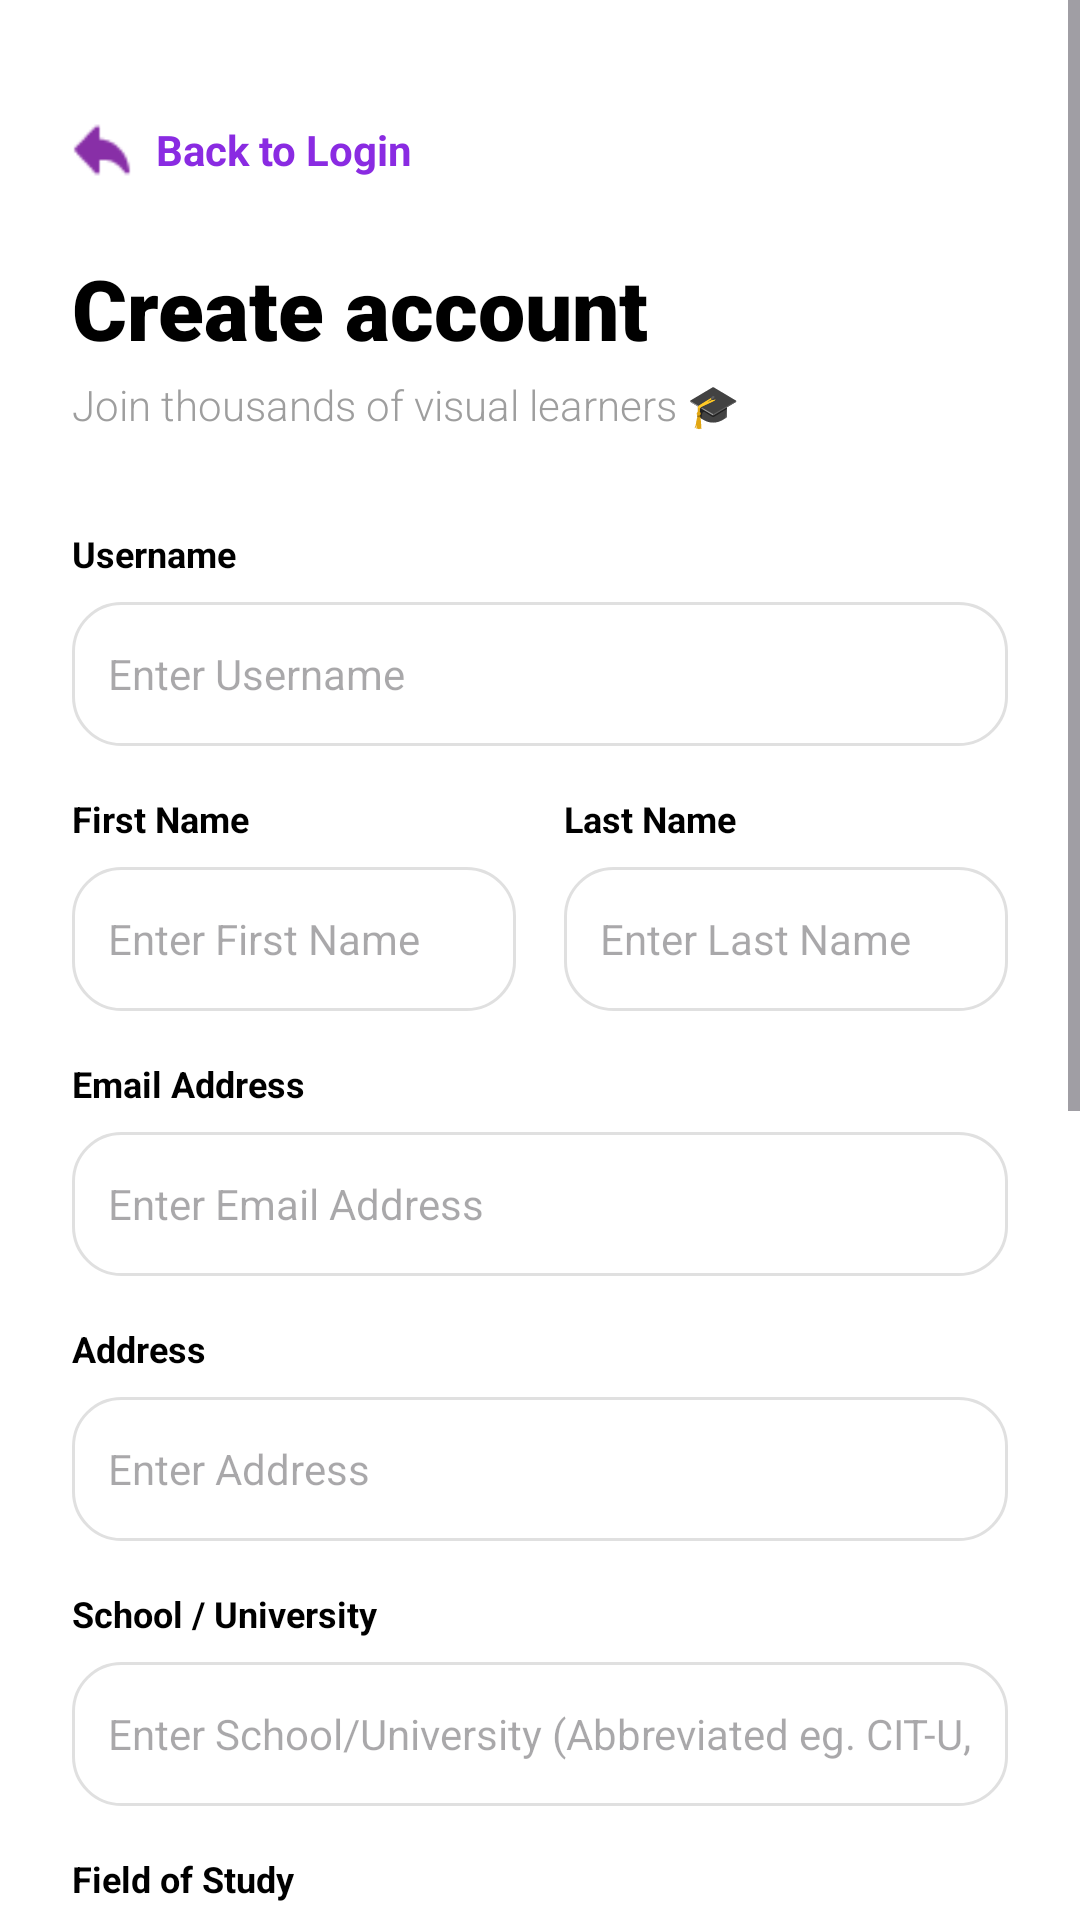

Locate icon controls on the screen. Image size 1080*1920, boxes as box=[x1, y1, x2, y2].
backarrow: box=[74, 125, 130, 175]
